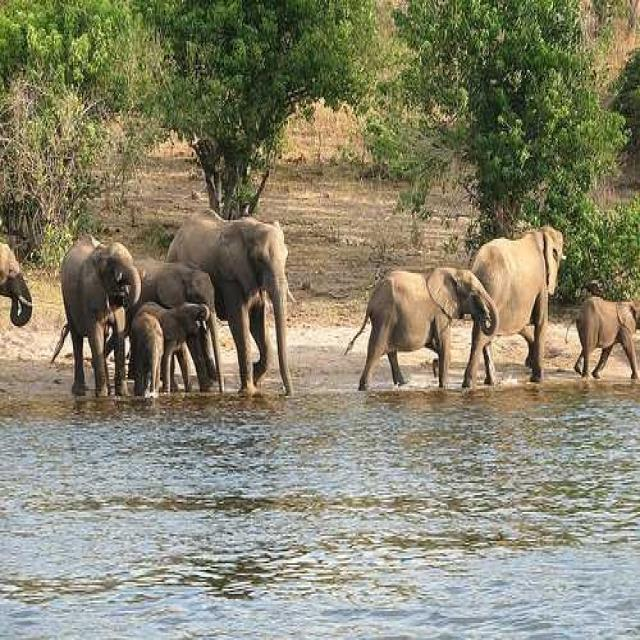Elephant: (165, 208, 295, 396), (343, 264, 499, 391), (462, 224, 565, 386), (48, 232, 140, 396), (571, 295, 639, 379), (0, 241, 32, 326)
